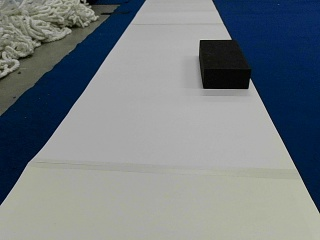block: (199, 38, 250, 89)
